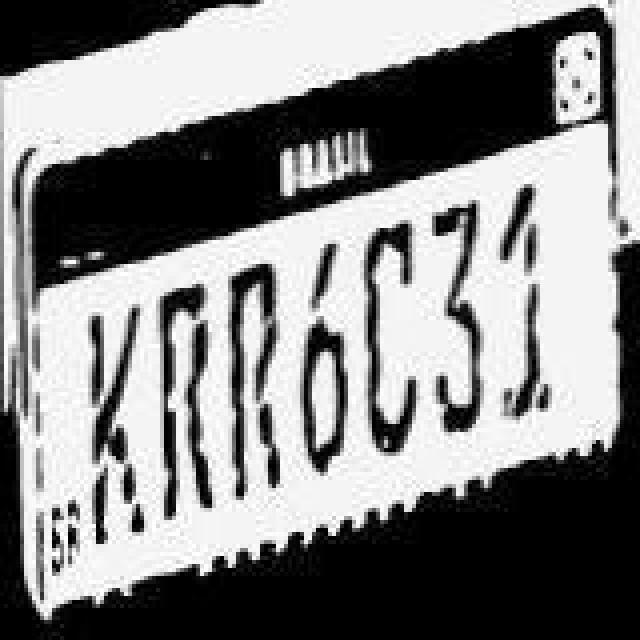1: (500, 184, 552, 424)
3: (432, 202, 484, 438)
6: (298, 242, 346, 478)
C: (362, 220, 418, 452)
K: (84, 302, 144, 546)
R: (160, 282, 212, 526), (230, 258, 278, 502)
